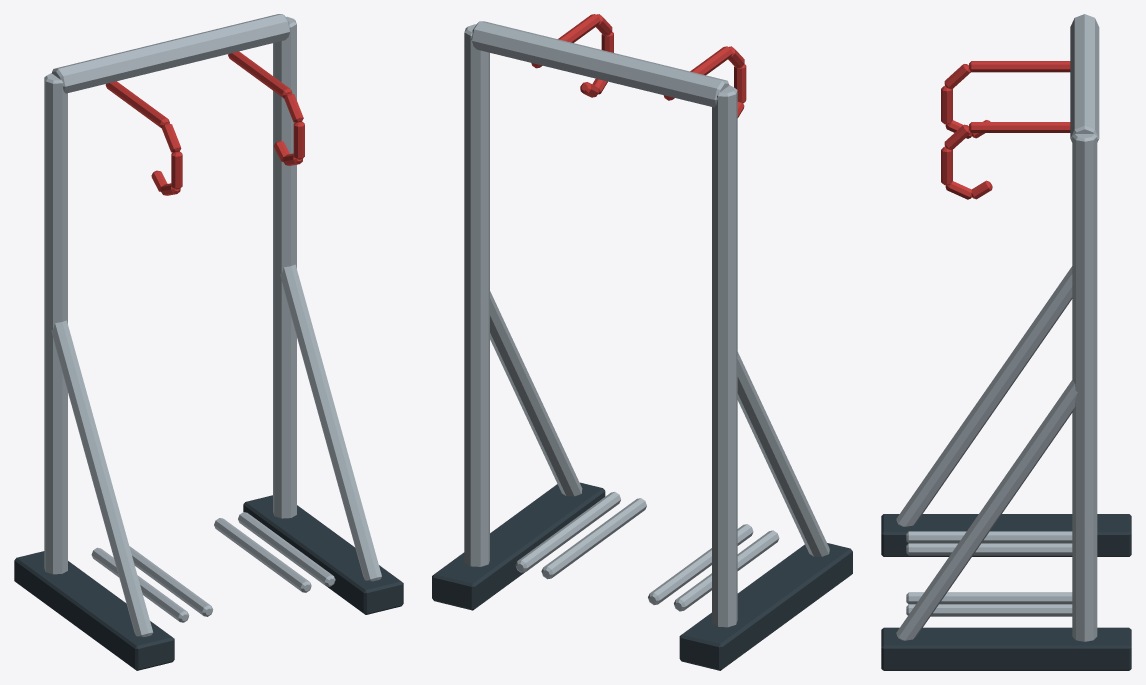
File: b01_vertical_bicycle_parking_stand.glb
The picture shows the model from 3 angles, left to right: view 1: azimuth 30°, elevation 25°; view 2: azimuth 150°, elevation 25°; view 3: azimuth 270°, elevation 25°; orthographic projection. The views are drawn at different scales.
Visible parts, largest first — view 1: b01_vertical_bicycle_parking_stand; view 2: b01_vertical_bicycle_parking_stand; view 3: b01_vertical_bicycle_parking_stand.
Part boxes in pixels (x1,y1,x2,y2): b01_vertical_bicycle_parking_stand: (14, 14, 403, 670); b01_vertical_bicycle_parking_stand: (432, 14, 852, 670); b01_vertical_bicycle_parking_stand: (881, 14, 1131, 670).
Size of the model in its own units: 1.01 by 1.89 by 0.8.
